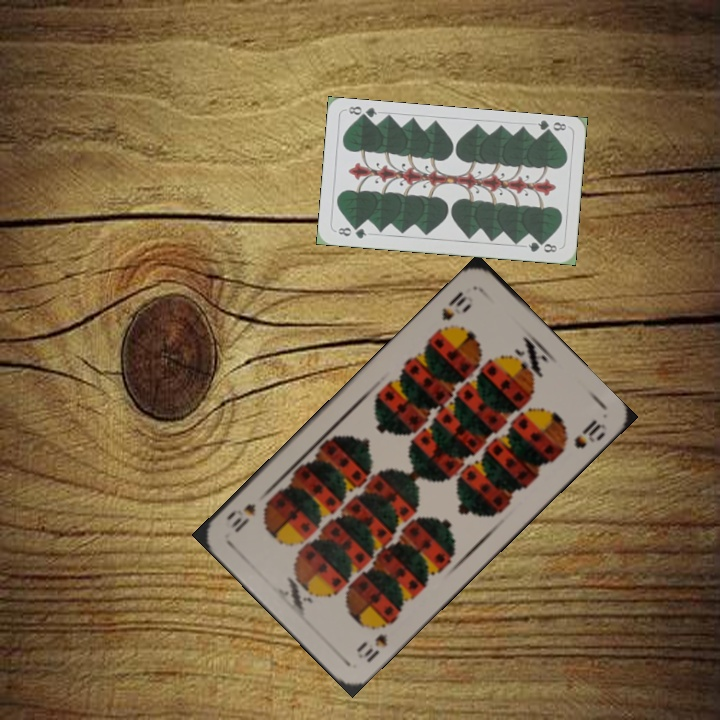G8: (534, 117, 568, 138), (334, 223, 369, 241)
S10: (352, 629, 391, 666), (437, 287, 469, 323)
